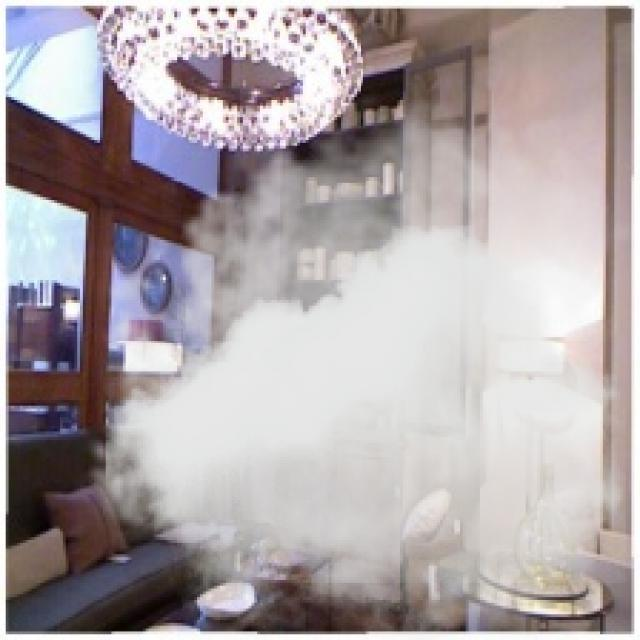Smoke: (71, 80, 628, 637)
